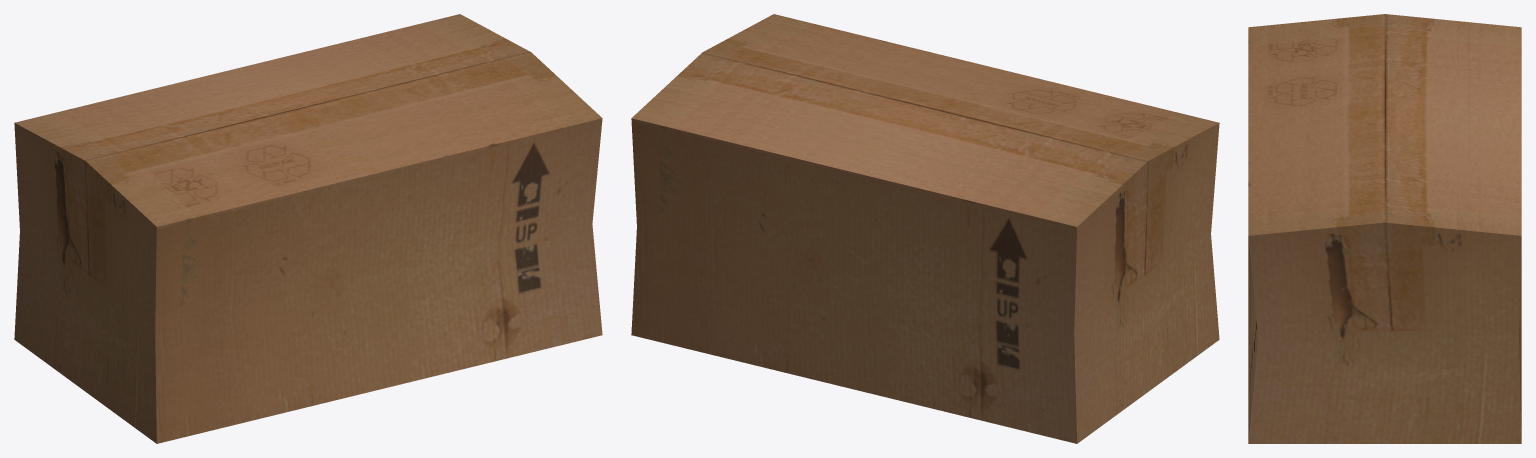
The model's file is Cardboard_Box.FBX.
3 views of the same model, side by side, from view 1: azimuth 30°, elevation 25°; view 2: azimuth 150°, elevation 25°; view 3: azimuth 270°, elevation 25° (orthographic). The views are drawn at different scales.
Visible parts, largest first — view 1: Cardboard_Box; view 2: Cardboard_Box; view 3: Cardboard_Box.
Part boxes in pixels (x1,y1,x2,y2): Cardboard_Box: (14,14,602,443); Cardboard_Box: (631,14,1219,443); Cardboard_Box: (1248,14,1521,443).
Size of the model in its own units: 1527 by 756 by 845.
1 material, 1 textured.
